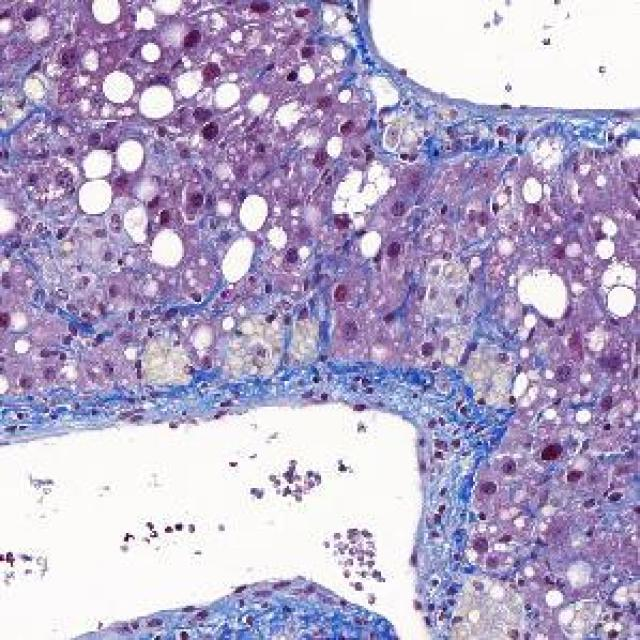fibrosis: (265, 304, 471, 407)
